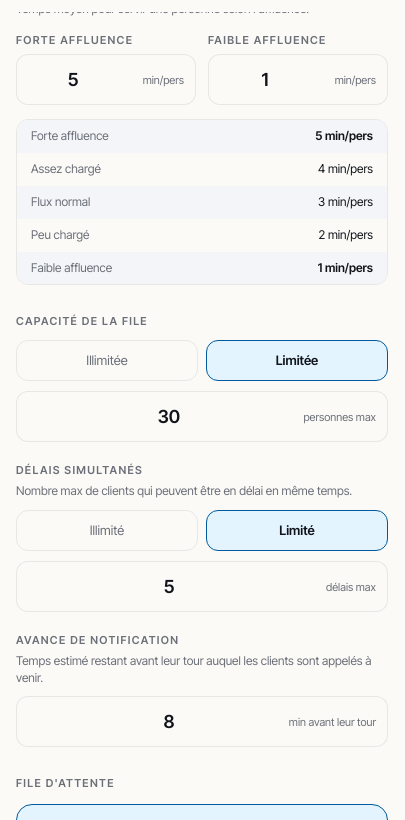
Test: ScreenVendorSetup › maxQueueSize clamps at minimum 1 when set to 0
The width and height of the screenshot is (405, 820).
(page scrolled)
Replace the text in the number field next to "personnes max" with "0". click: (202, 417)
box: [16,392,388,442]
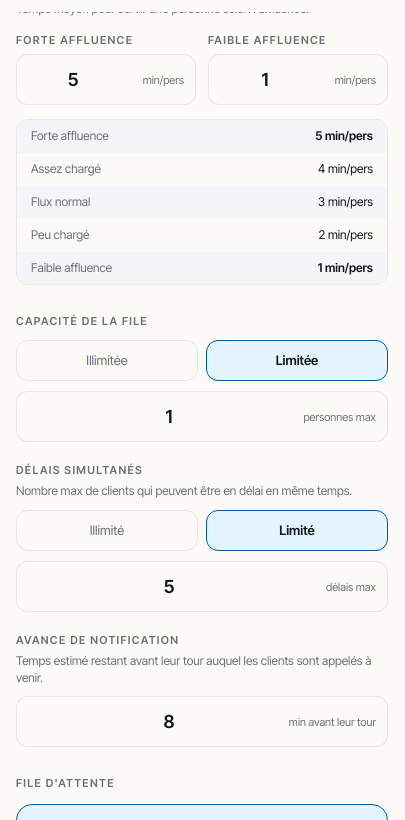
Expected: the number field next to "personnes max" holds "1", [16,392,388,442]
